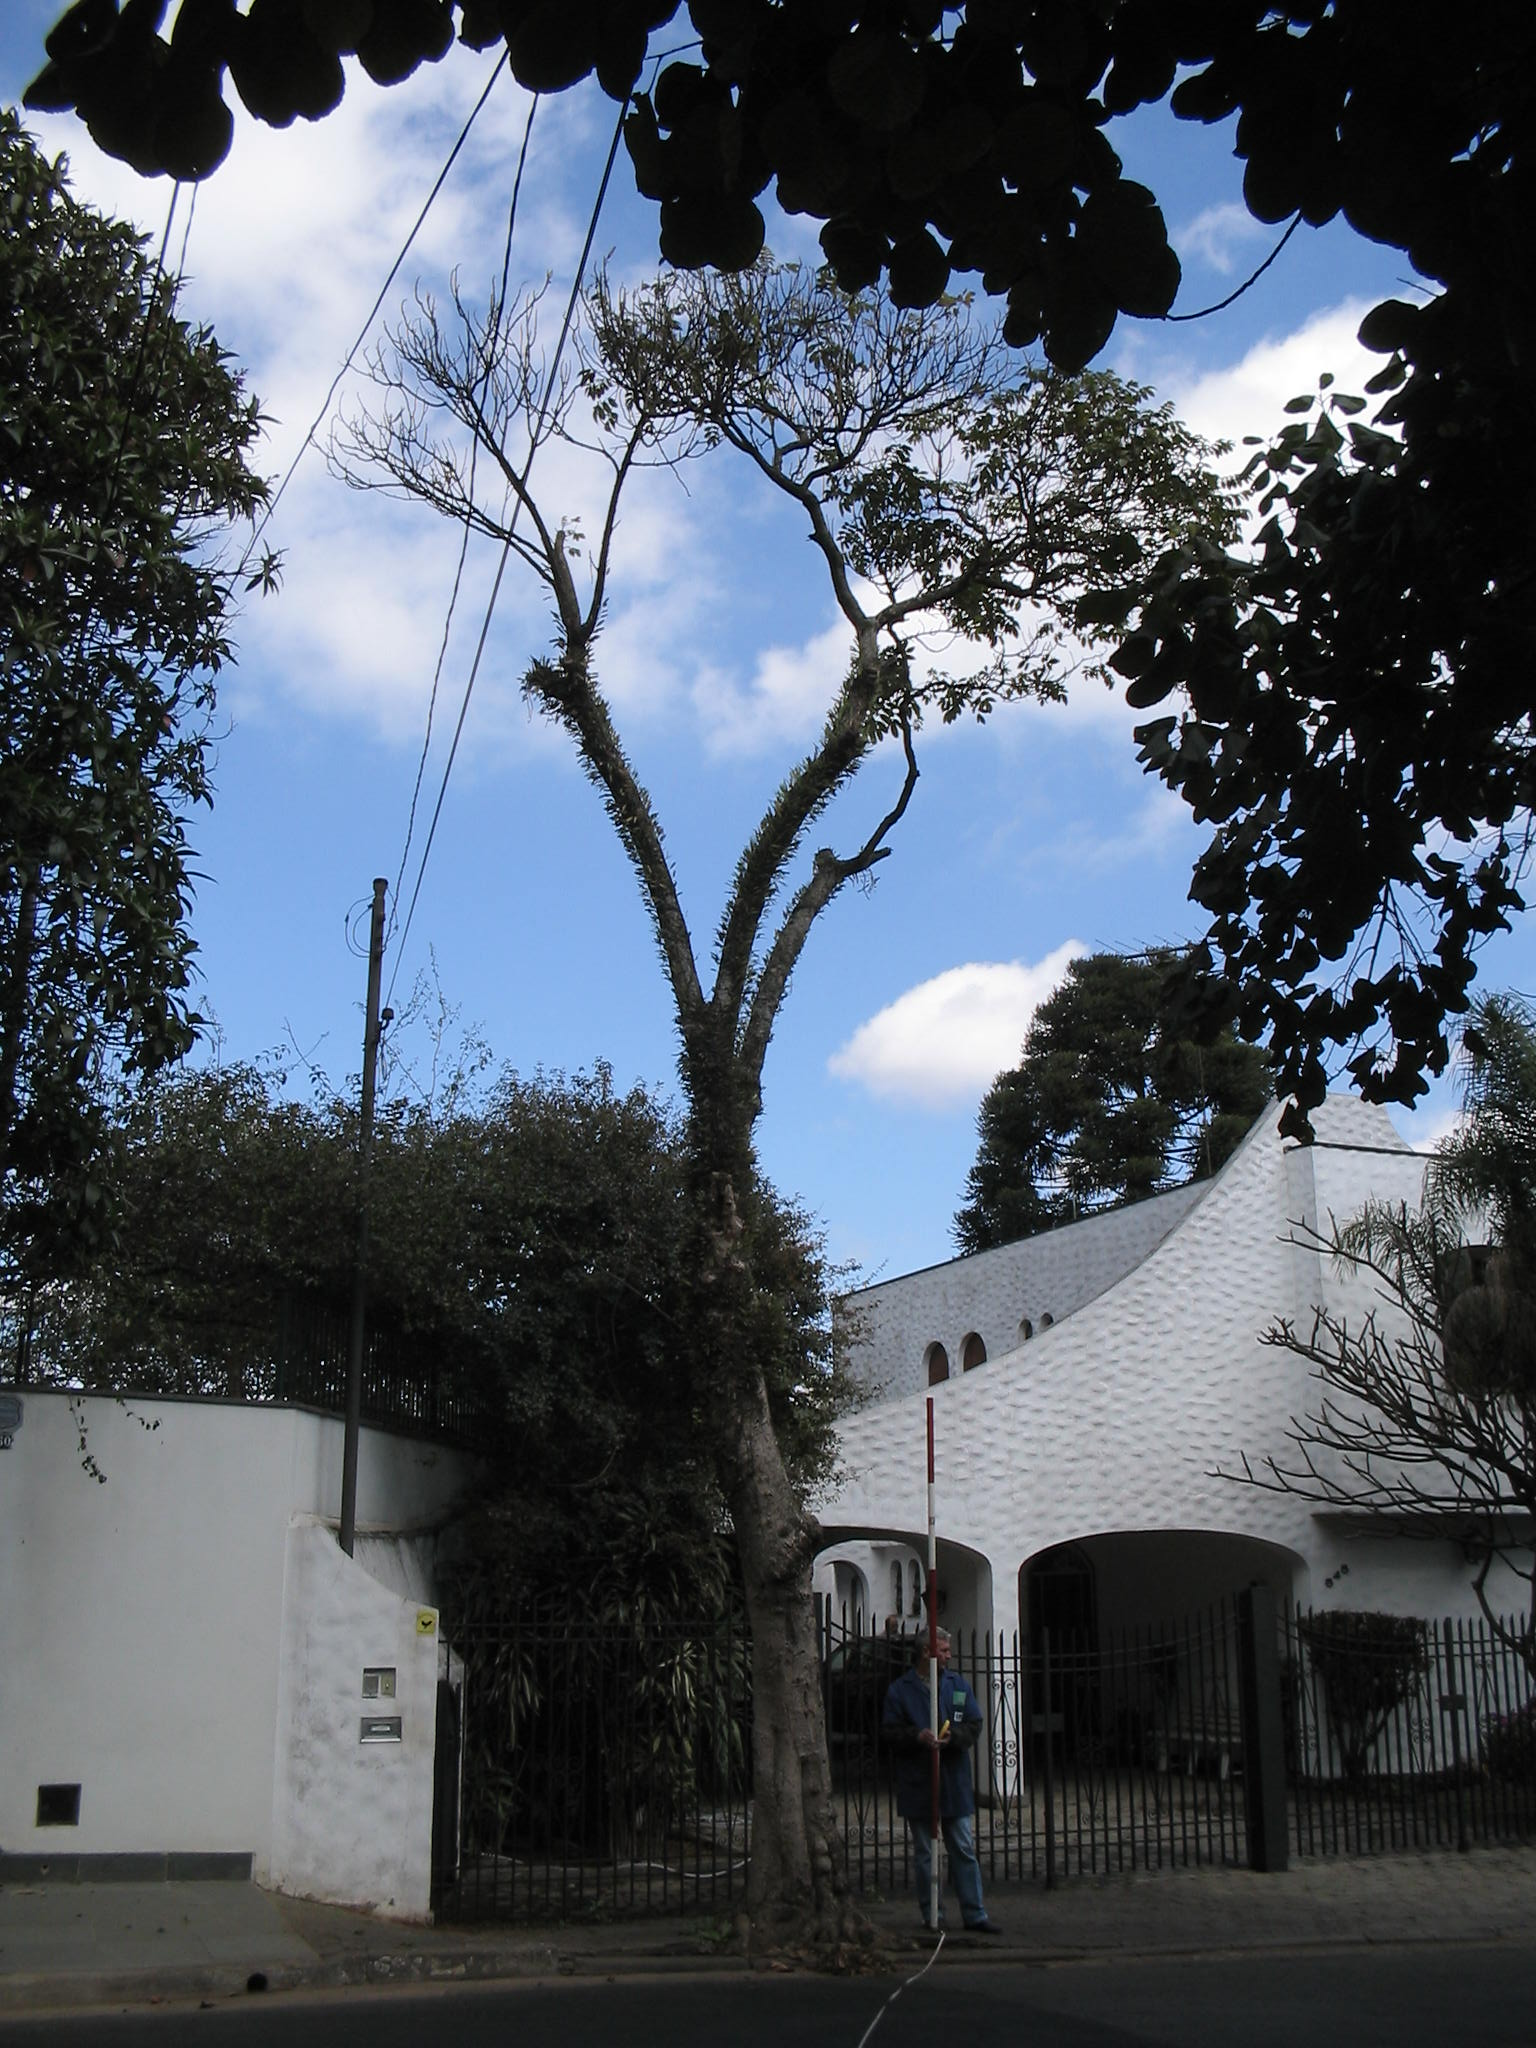crown: (307, 261, 1234, 769)
stem: (632, 1143, 871, 1946)
stick: (912, 1393, 957, 1925)
tree: (295, 255, 1233, 1951)
